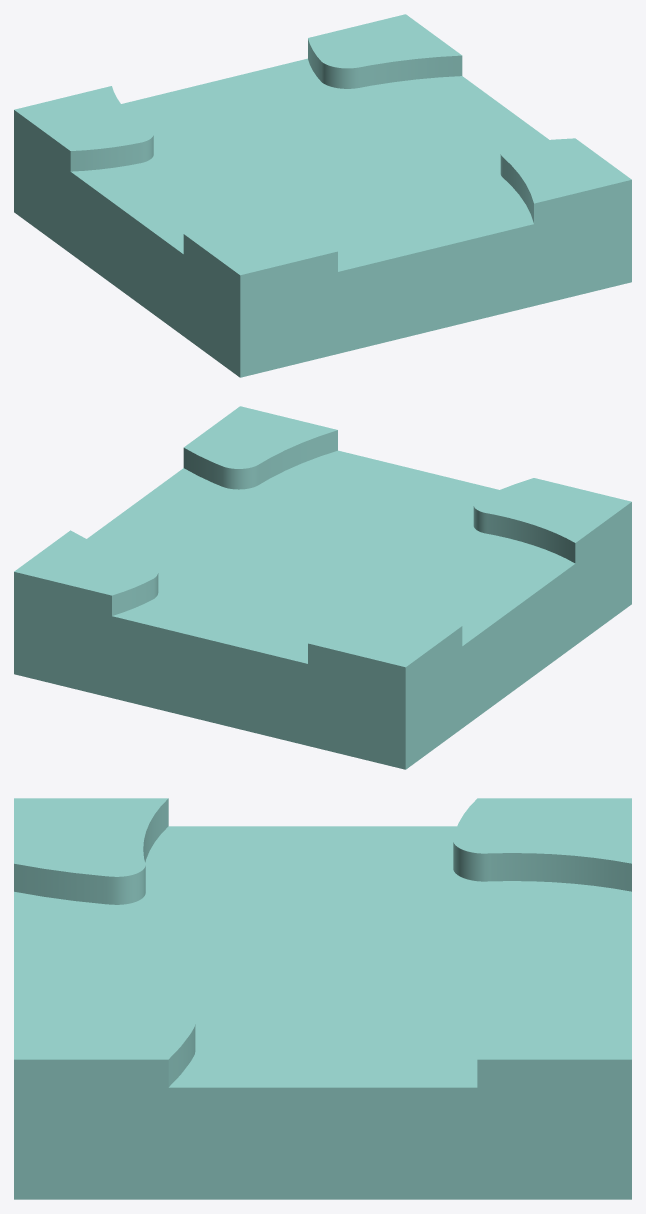
File: ground_dirtRiverCrossing.fbx
3 renders of one model, top to bottom at view 1: azimuth 30°, elevation 25°; view 2: azimuth 150°, elevation 25°; view 3: azimuth 270°, elevation 25°, orthographic. The views are drawn at different scales.
Parts seen in each view (by area): view 1: ground_dirtRiverCrossing; view 2: ground_dirtRiverCrossing; view 3: ground_dirtRiverCrossing.
Boxes of the visible parts, left/top/right/bottom form: ground_dirtRiverCrossing: left=14, top=14, right=631, bottom=377; ground_dirtRiverCrossing: left=14, top=406, right=631, bottom=769; ground_dirtRiverCrossing: left=14, top=798, right=631, bottom=1199.
Bounding box in the file's own units: 300 × 75 × 300.
